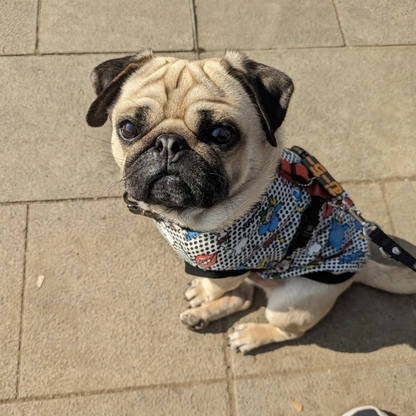Pug: (81, 45, 416, 360)
